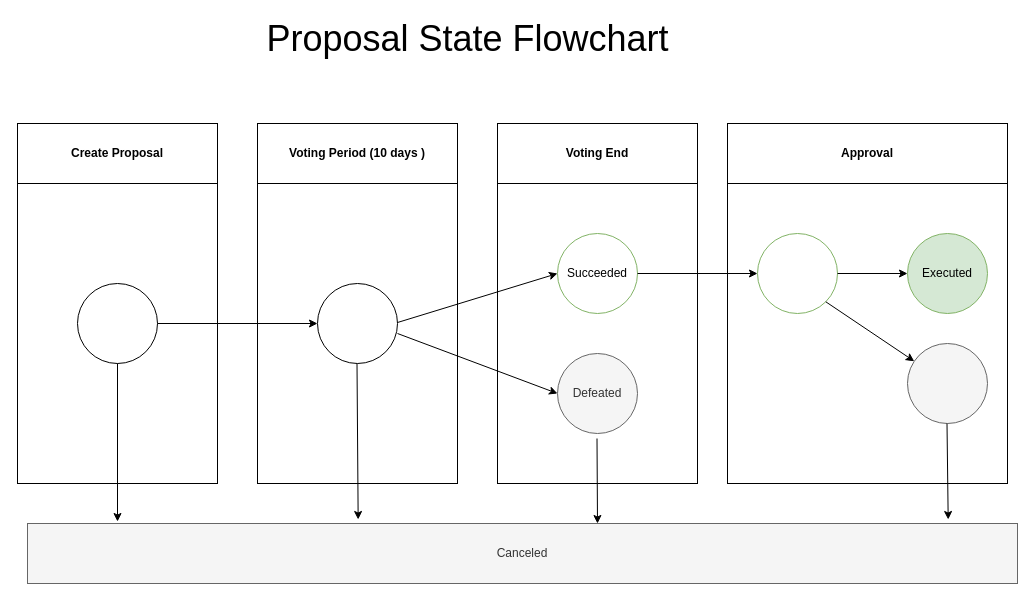
This 1035x601 diagram has some shape labels left out. Each missing label, with the centre of its shape:
Active: (357,323)
Pending: (117,323)
Queued: (797,273)
Rejected: (947,383)
